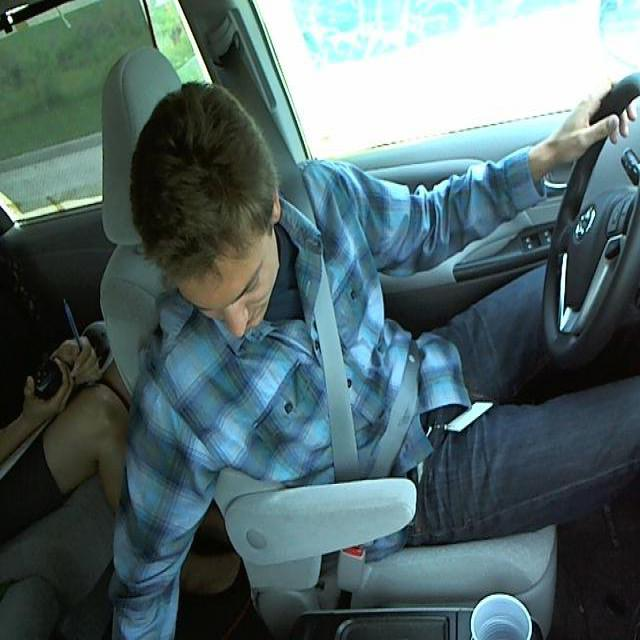seatbelt: (297, 252, 372, 485)
